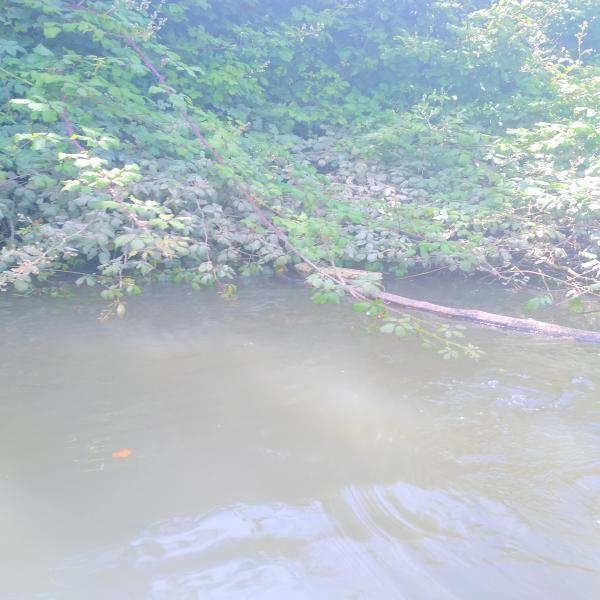others: (289, 259, 384, 282)
